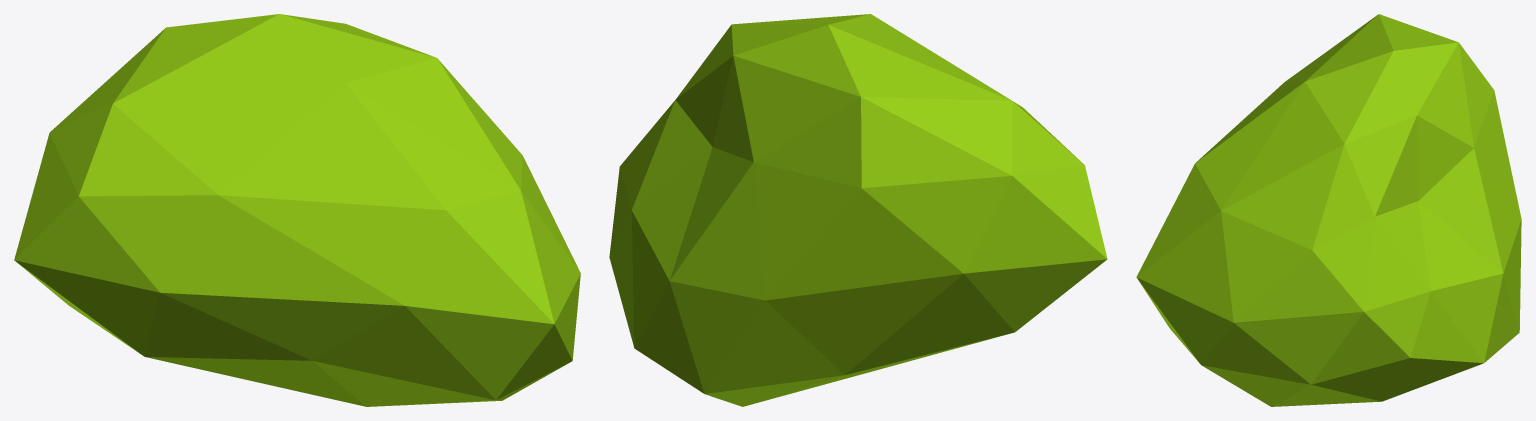
Rendered from lp_tree1_Icosphere_015.obj.
3 renders of one model, left to right at view 1: azimuth 30°, elevation 25°; view 2: azimuth 150°, elevation 25°; view 3: azimuth 270°, elevation 25°, orthographic. The views are drawn at different scales.
Parts seen in each view (by area): view 1: lp_tree1_Icosphere_015; view 2: lp_tree1_Icosphere_015; view 3: lp_tree1_Icosphere_015.
Boxes of the visible parts, bbox=[...] form: lp_tree1_Icosphere_015: bbox=[14, 14, 580, 406]; lp_tree1_Icosphere_015: bbox=[609, 14, 1107, 406]; lp_tree1_Icosphere_015: bbox=[1136, 14, 1521, 406].
Bounding box in the file's own units: 6.17 × 4.45 × 5.08.
